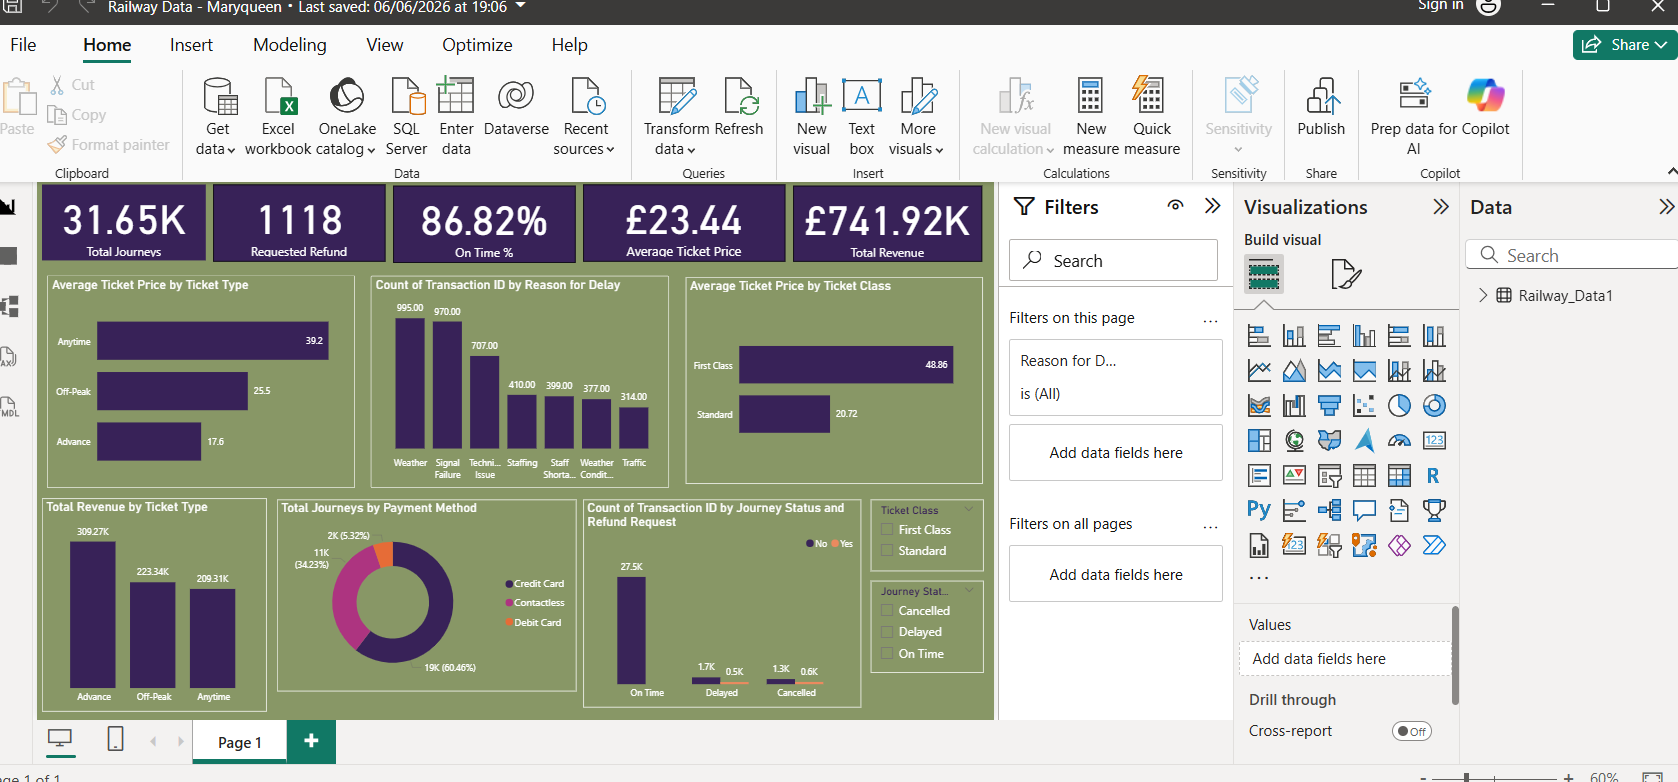

Layout of this report page (visuals, bound fields, positions):
{"tool":"powerbi","page":{"name":"Page 1","canvas":[1280,720],"ordinal":0},"visuals":[{"type":"card","fields":{"Values":["Railway_Data1.Total Revenue"]},"box":[1012.7,5.5,252.5,101.5],"z":0},{"type":"card","fields":{"Values":["Railway_Data1.Total Journeys"]},"box":[6.9,4.1,219.6,101.5],"z":1000},{"type":"card","fields":{"Values":["Railway_Data1.On Time %"]},"box":[477.5,5.5,244.3,102.9],"z":2000},{"type":"card","fields":{"Values":["Railway_Data1.Requested Refund"]},"box":[236,4.1,230.5,102.9],"z":3000},{"type":"card","fields":{"Values":["Railway_Data1.Average Ticket Price"]},"box":[731.4,4.1,270.3,102.9],"z":4000},{"type":"clusteredBarChart","fields":{"Category":["Railway_Data1.Ticket Type"],"Y":["Railway_Data1.Average Ticket Price"]},"box":[13.7,124.9,411.7,284],"z":5000},{"type":"columnChart","fields":{"Category":["Railway_Data1.Reason for Delay"],"Y":["CountNonNull(Railway_Data1.Transaction ID)"]},"box":[447.3,124.9,399.3,284],"z":6000},{"type":"clusteredColumnChart","fields":{"Category":["Railway_Data1.Ticket Type"],"Y":["Railway_Data1.Total Revenue"]},"box":[6.9,422.6,300.5,285.4],"z":7000},{"type":"donutChart","fields":{"Category":["Railway_Data1.Payment Method"],"Y":["Railway_Data1.Total Journeys"]},"box":[321.1,425.4,400.7,256.6],"z":8000},{"type":"clusteredBarChart","fields":{"Category":["Railway_Data1.Ticket Class"],"Y":["Railway_Data1.Average Ticket Price"]},"box":[868.6,127.6,397.9,277.2],"z":9000},{"type":"slicer","fields":{"Values":["Railway_Data1.Ticket Class"]},"box":[1115.6,425.4,150.9,96.1],"z":10000},{"type":"slicer","fields":{"Values":["Railway_Data1.Journey Status"]},"box":[1115.2,533.2,151.6,123.2],"z":11000},{"type":"clusteredColumnChart","fields":{"Category":["Railway_Data1.Journey Status"],"Series":["Railway_Data1.Refund Request"],"Y":["CountNonNull(Railway_Data1.Transaction ID)"]},"box":[731.4,425.4,371.9,278.6],"z":12000}]}

Visuals, with their boxes on the page's 1280x720 design canvas (x1, y1, x2, y2). These are canvas units, not pixel positions in the 1678x782 screenshot, which may show the page scaled, cropped or inside an application window:
card - Railway_Data1.Total Revenue: locate(1013, 6, 1265, 107)
card - Railway_Data1.Total Journeys: locate(7, 4, 226, 106)
card - Railway_Data1.On Time %: locate(478, 6, 722, 108)
card - Railway_Data1.Requested Refund: locate(236, 4, 466, 107)
card - Railway_Data1.Average Ticket Price: locate(731, 4, 1002, 107)
clusteredBarChart - Railway_Data1.Ticket Type x Railway_Data1.Average Ticket Price: locate(14, 125, 425, 409)
columnChart - Railway_Data1.Reason for Delay x CountNonNull(Railway_Data1.Transaction ID): locate(447, 125, 847, 409)
clusteredColumnChart - Railway_Data1.Ticket Type x Railway_Data1.Total Revenue: locate(7, 423, 307, 708)
donutChart - Railway_Data1.Payment Method x Railway_Data1.Total Journeys: locate(321, 425, 722, 682)
clusteredBarChart - Railway_Data1.Ticket Class x Railway_Data1.Average Ticket Price: locate(869, 128, 1266, 405)
slicer - Railway_Data1.Ticket Class: locate(1116, 425, 1266, 522)
slicer - Railway_Data1.Journey Status: locate(1115, 533, 1267, 656)
clusteredColumnChart - Railway_Data1.Journey Status x Railway_Data1.Refund Request: locate(731, 425, 1103, 704)
